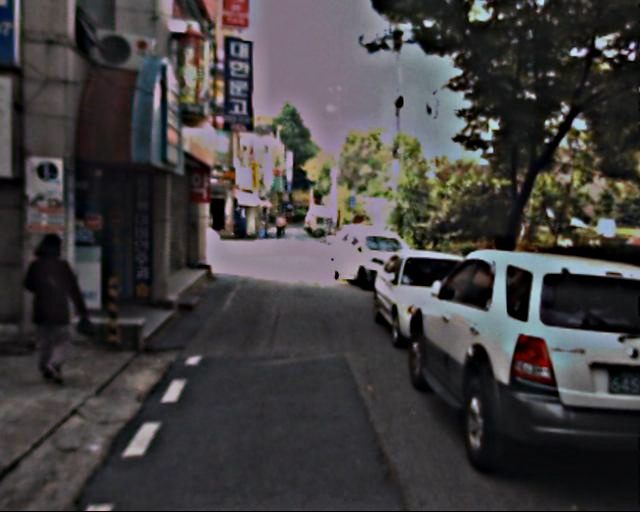person: (20, 233, 99, 384)
